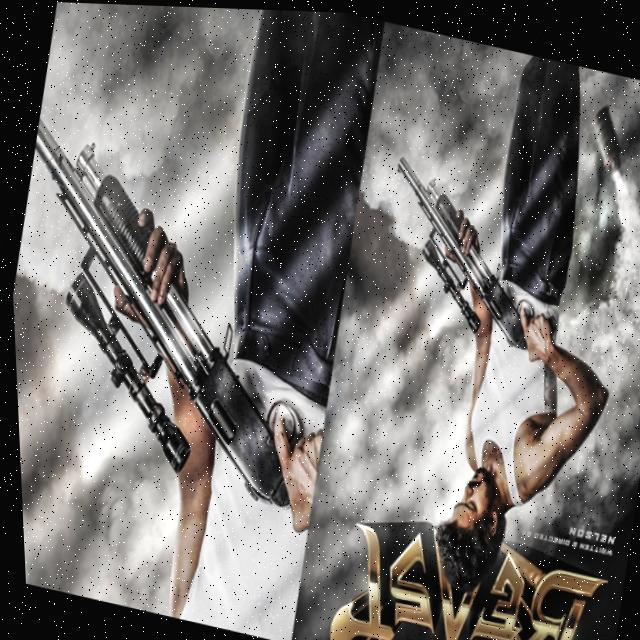firearm: (4, 102, 359, 514), (363, 147, 581, 355)
grenade: (580, 95, 632, 174)
